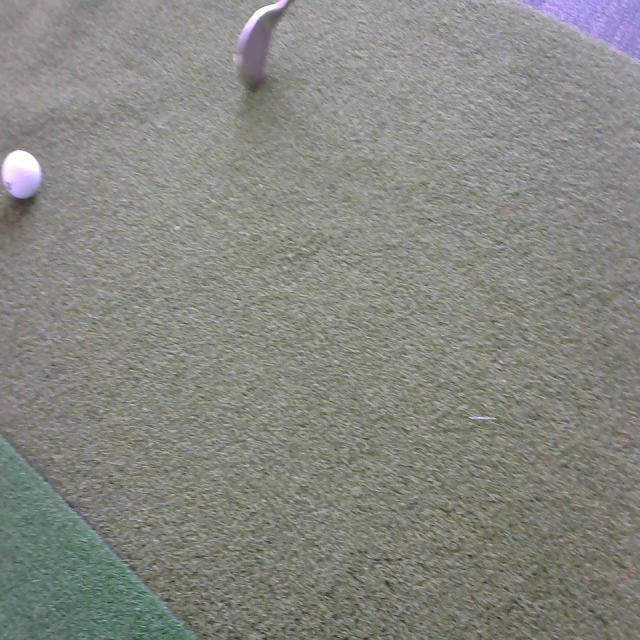ClubHead: (218, 0, 300, 99)
GolfBall: (0, 147, 52, 212)
